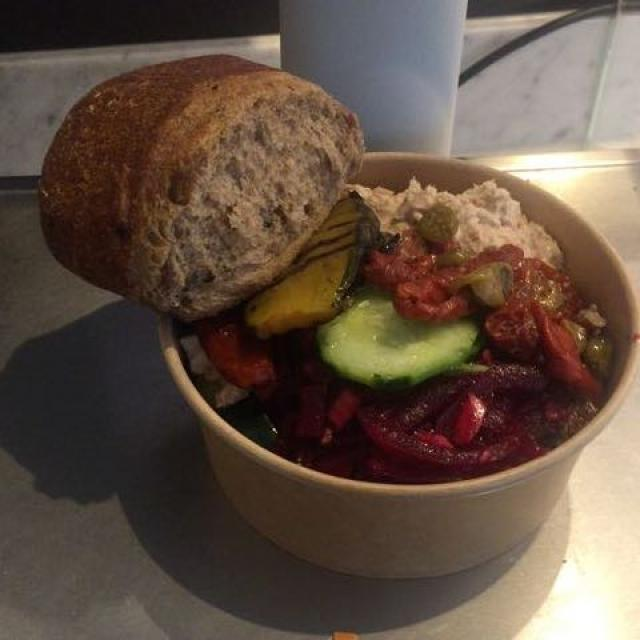bread: (46, 57, 361, 322)
cucumber: (315, 276, 483, 387)
zucchini: (240, 195, 385, 344)
